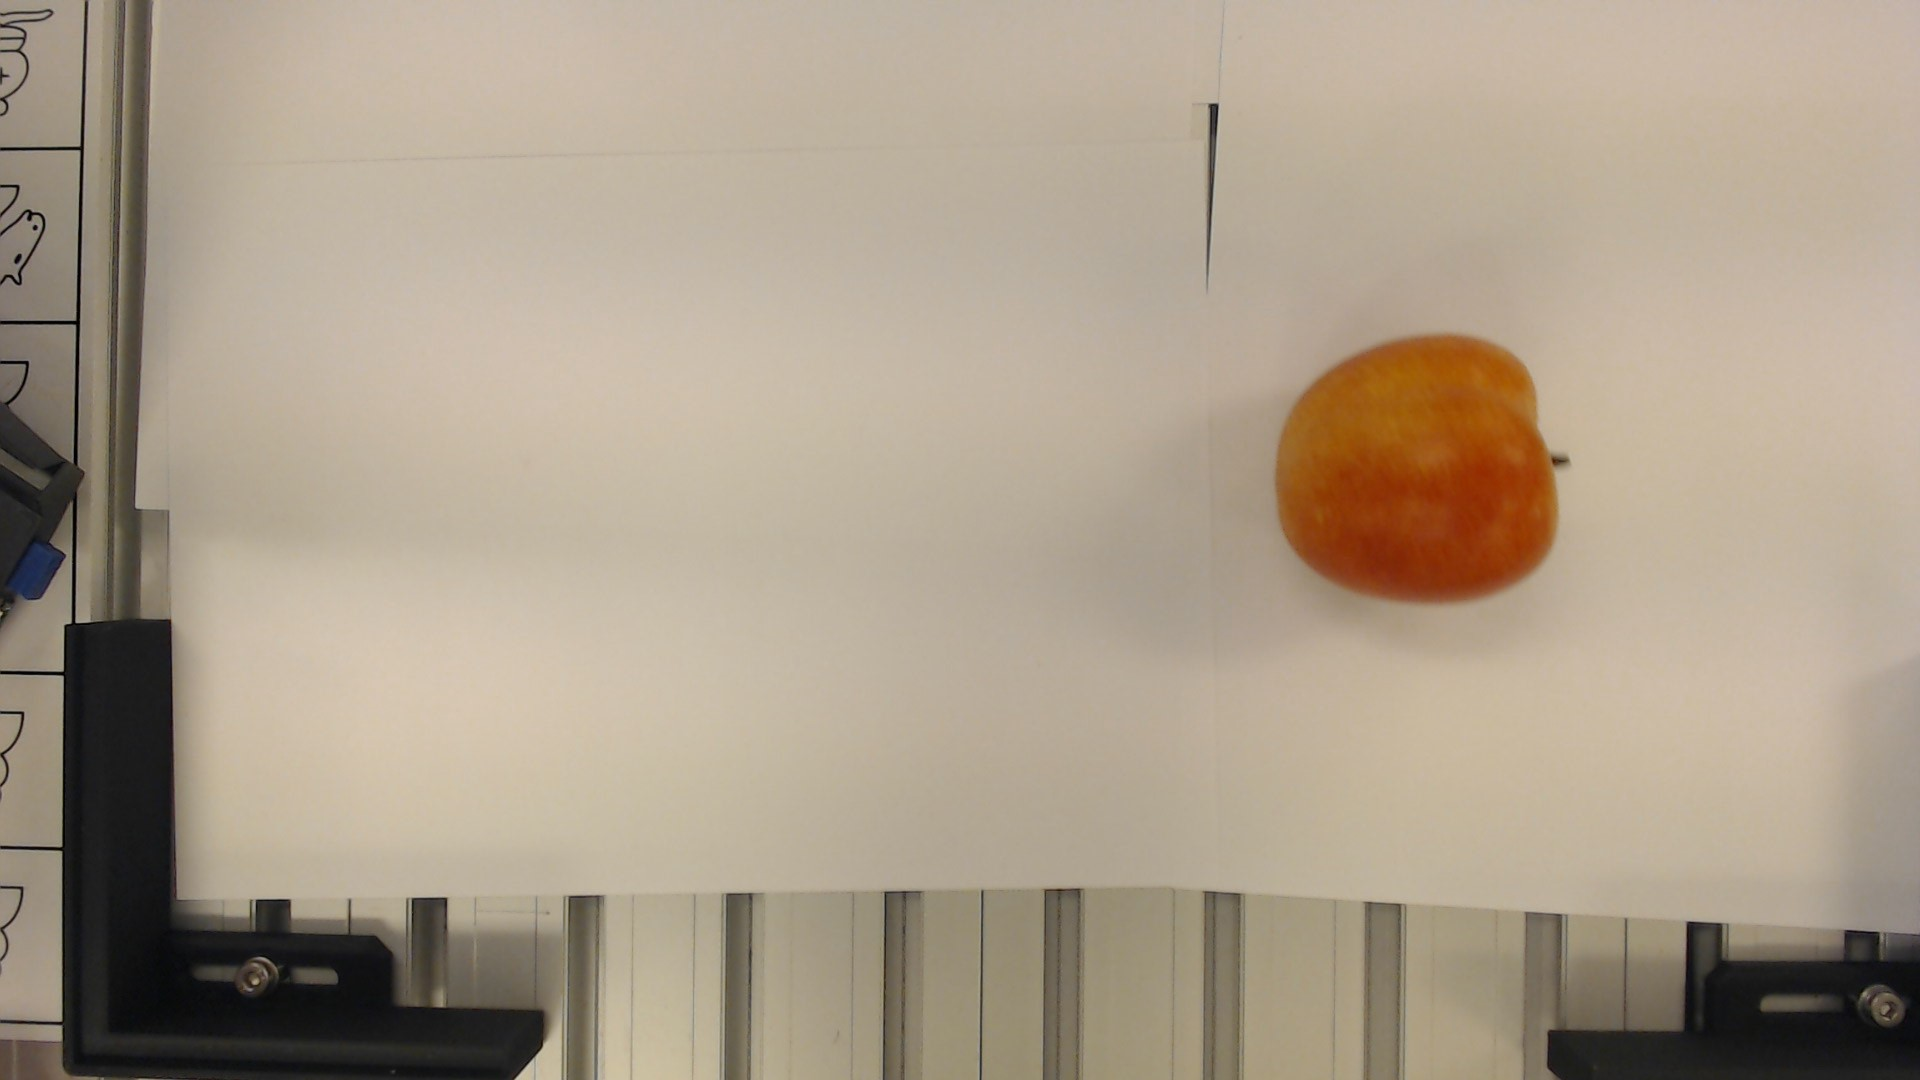Peach: (1257, 324, 1580, 607)
